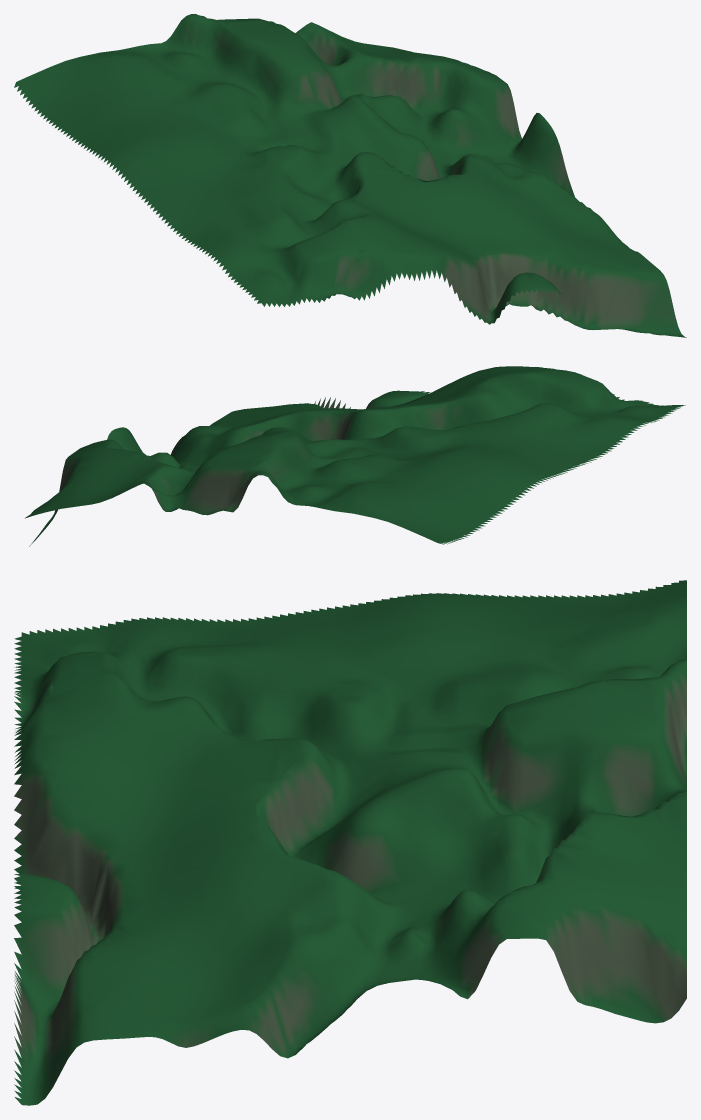
The model's file is payo_land_x1_y1_lod1.glb.
3 views of the same model, one above another, from view 1: azimuth 30°, elevation 25°; view 2: azimuth 150°, elevation 25°; view 3: azimuth 270°, elevation 25° (orthographic). The views are drawn at different scales.
Parts seen in each view (by area): view 1: payo_land_x1_y1; view 2: payo_land_x1_y1; view 3: payo_land_x1_y1.
Part boxes in pixels (x1,y1,x2,y2): payo_land_x1_y1: [14, 14, 686, 337]; payo_land_x1_y1: [25, 366, 685, 546]; payo_land_x1_y1: [14, 580, 686, 1105].
Bounding box in the file's own units: 258 × 118 × 258.
